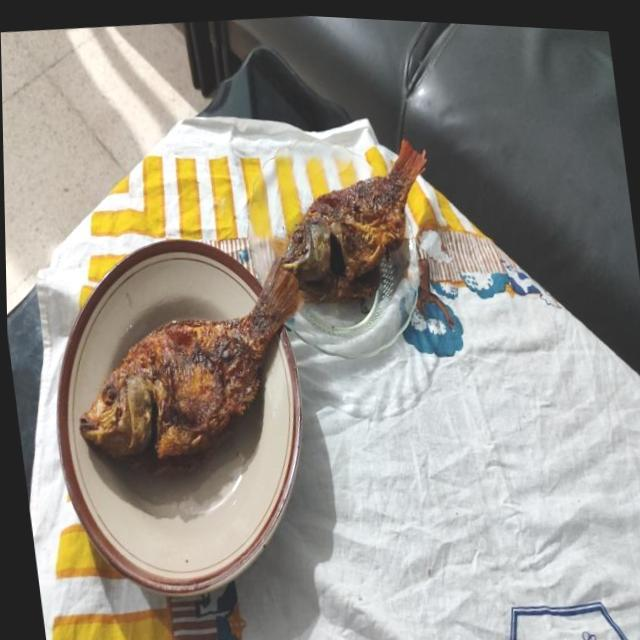ikan_mujair: (79, 258, 302, 469), (281, 140, 426, 301)
